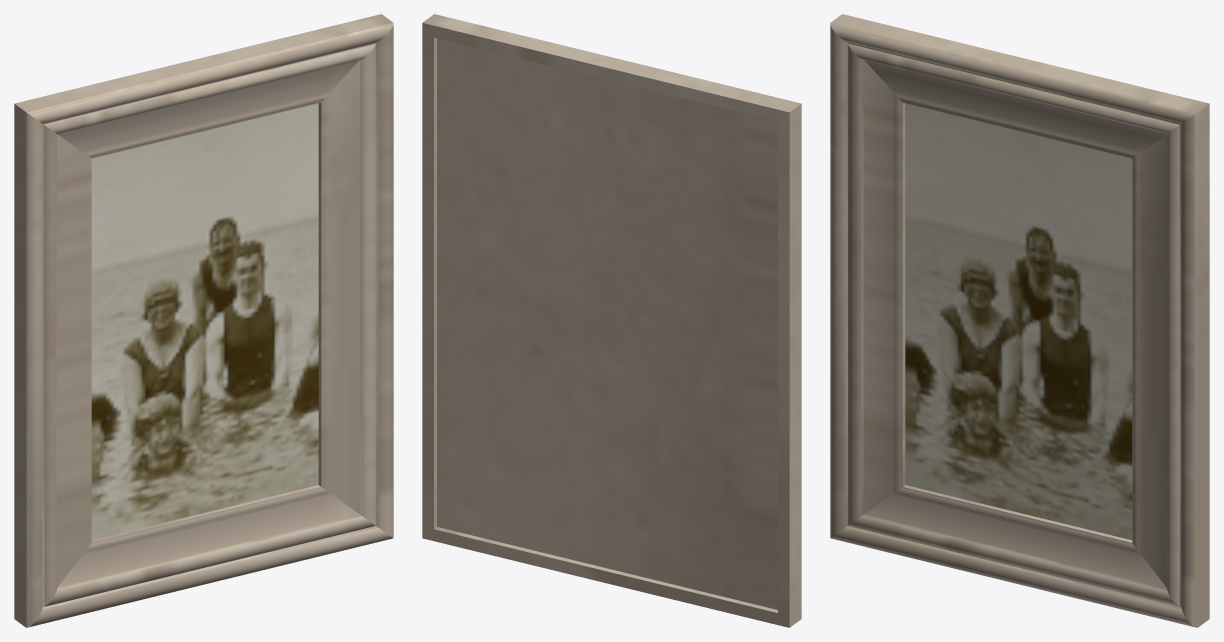
The model's file is painting_frame.glb.
3 renders of one model, left to right at view 1: azimuth 30°, elevation 25°; view 2: azimuth 150°, elevation 25°; view 3: azimuth 330°, elevation 25°, orthographic.
Visible parts, largest first — view 1: polySurface1; view 2: polySurface1; view 3: polySurface1.
Boxes of the visible parts, x1,y1,x2,y2 form: polySurface1: (14, 14, 393, 627); polySurface1: (422, 14, 801, 627); polySurface1: (830, 14, 1209, 627).
Size of the model in its own units: 2.62 by 3.52 by 0.1792.
Materials: 1 (1 with a texture image).
